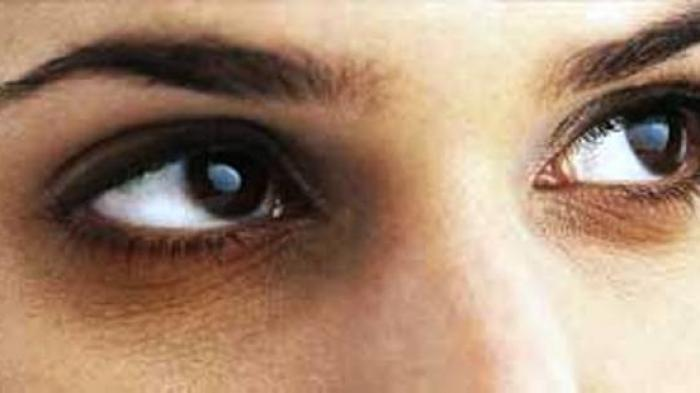Eyebags: (8, 114, 404, 356), (526, 84, 699, 252)
